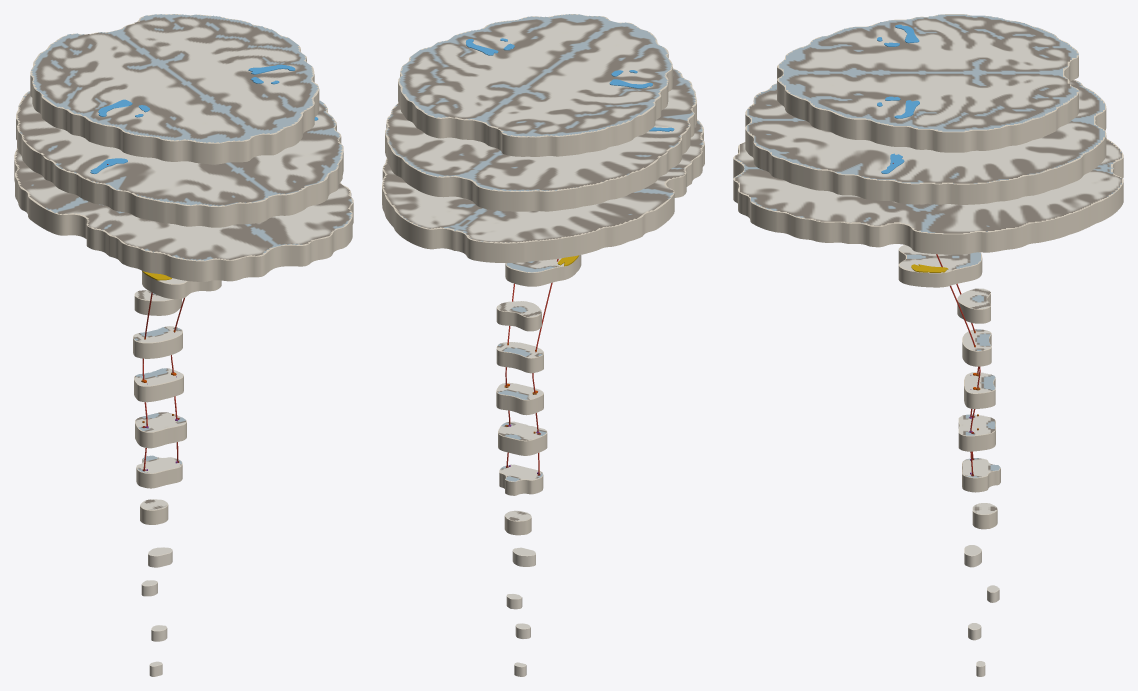
3 views of the same model, side by side, from view 1: azimuth 30°, elevation 25°; view 2: azimuth 150°, elevation 25°; view 3: azimuth 270°, elevation 25° (orthographic). The views are drawn at different scales.
Visible parts, largest first — view 1: L15·切面（灰白质）, L14·切面（灰白质）, L13·切面（灰白质）, L13·背景·丘脑内囊, L14·背景·放射冠, L15·背景·皮质上部, L11·背景·下丘, L07·背景·橄榄中部, L09·背景·脑桥中部, L08·背景·脑桥下部, L06·背景·丘系交叉, L10·背景·脑桥上部 (+4 smaller); view 2: L15·切面（灰白质）, L14·切面（灰白质）, L13·切面（灰白质）, L13·背景·丘脑内囊, L14·背景·放射冠, L15·背景·皮质上部, L11·背景·下丘, L07·背景·橄榄中部, L09·背景·脑桥中部, L08·背景·脑桥下部, L10·背景·脑桥上部, L06·背景·丘系交叉 (+6 smaller); view 3: L15·切面（灰白质）, L14·切面（灰白质）, L13·切面（灰白质）, L13·背景·丘脑内囊, L14·背景·放射冠, L15·背景·皮质上部, L11·背景·下丘, L11·切面（灰白质）, L07·切面（灰白质）, L07·背景·橄榄中部, L06·背景·丘系交叉.
Boxes of the visible parts, x1,y1,x2,y2 form: L15·切面（灰白质）: (31, 14, 318, 142); L14·切面（灰白质）: (17, 91, 342, 206); L13·切面（灰白质）: (15, 150, 352, 260); L13·背景·丘脑内囊: (14, 148, 353, 281); L14·背景·放射冠: (16, 91, 343, 227); L15·背景·皮质上部: (30, 14, 319, 164); L11·背景·下丘: (142, 271, 221, 299); L07·背景·橄榄中部: (135, 413, 186, 448); L09·背景·脑桥中部: (133, 329, 182, 358); L08·背景·脑桥下部: (134, 373, 183, 402); L06·背景·丘系交叉: (136, 458, 182, 488); L10·背景·脑桥上部: (134, 293, 181, 315); L15·切面（灰白质）: (399, 14, 671, 136); L14·切面（灰白质）: (385, 68, 695, 191); L13·切面（灰白质）: (383, 121, 703, 242); L13·背景·丘脑内囊: (382, 119, 704, 263); L14·背景·放射冠: (385, 68, 696, 211); L15·背景·皮质上部: (398, 14, 672, 156); L11·背景·下丘: (505, 255, 581, 286); L07·背景·橄榄中部: (498, 423, 547, 455); L09·背景·脑桥中部: (496, 344, 543, 373); L08·背景·脑桥下部: (496, 384, 543, 415); L10·背景·脑桥上部: (496, 301, 541, 331); L06·背景·丘系交叉: (499, 467, 543, 495); L15·切面（灰白质）: (779, 14, 1078, 131); L14·切面（灰白质）: (747, 80, 1104, 183); L13·切面（灰白质）: (735, 138, 1121, 233); L13·背景·丘脑内囊: (733, 139, 1123, 254); L14·背景·放射冠: (745, 79, 1106, 204); L15·背景·皮质上部: (777, 14, 1078, 152); L11·背景·下丘: (898, 245, 982, 287); L11·切面（灰白质）: (900, 245, 980, 272); L07·切面（灰白质）: (959, 414, 995, 435); L07·背景·橄榄中部: (958, 418, 995, 451); L06·背景·丘系交叉: (962, 460, 1000, 492).
Size of the model in its own units: 13.92 by 29.75 by 17.47.
